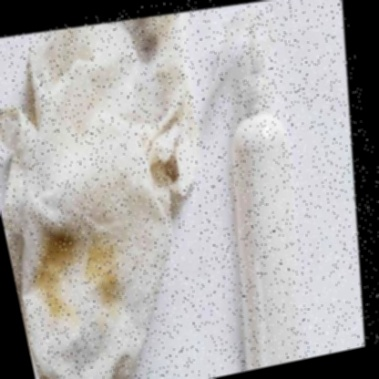coffee: (89, 249, 121, 296), (38, 274, 71, 319), (43, 232, 75, 270)
